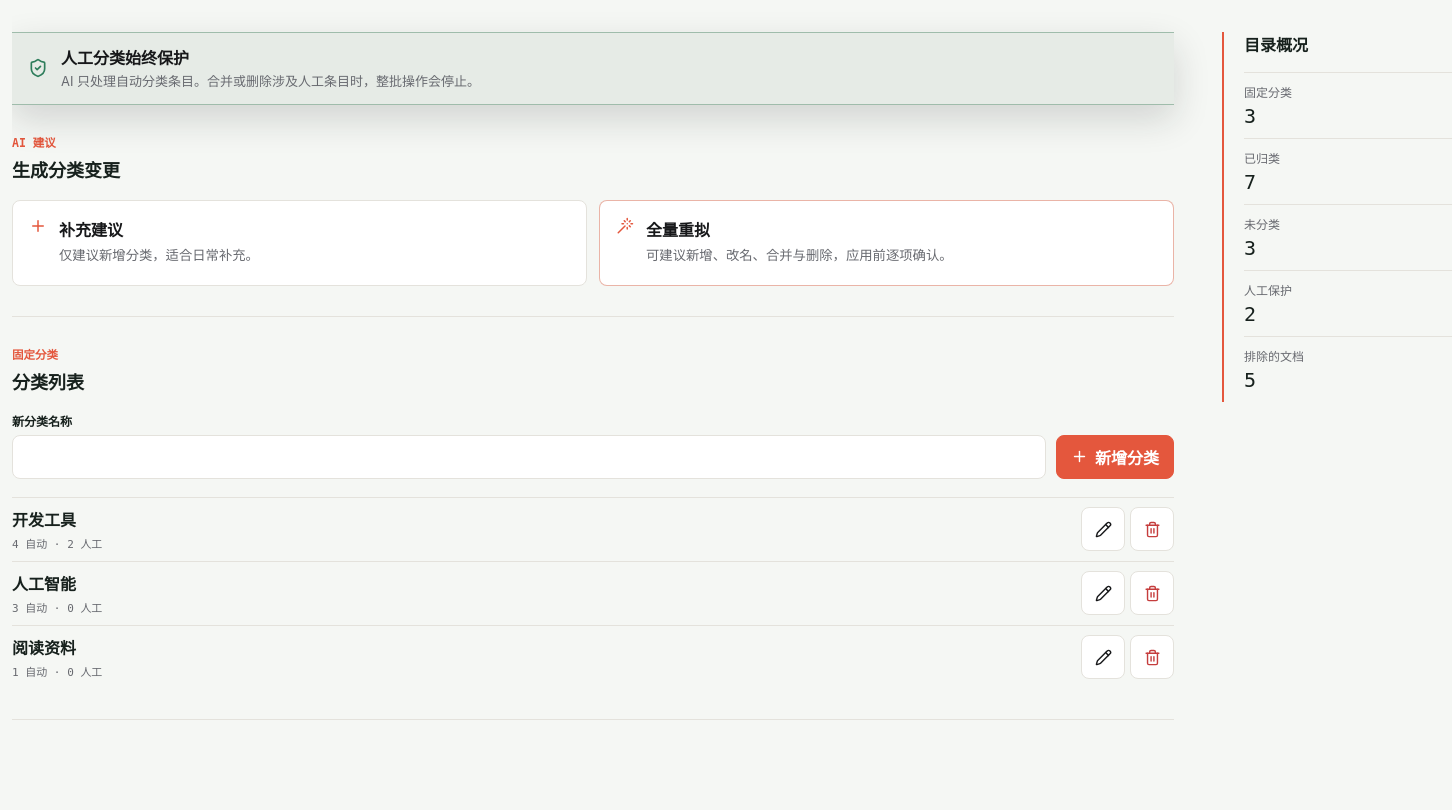
Scenario: CategoryWorkbench › keeps the manual protection visible and disables apply when every diff is ignored
The width and height of the screenshot is (1452, 810).
Click the button "全量重拟 可建议新增、改名、合并与删除，应用前逐项确认。" at (678,230), box top-left (599, 200), bottom-right (1174, 286)
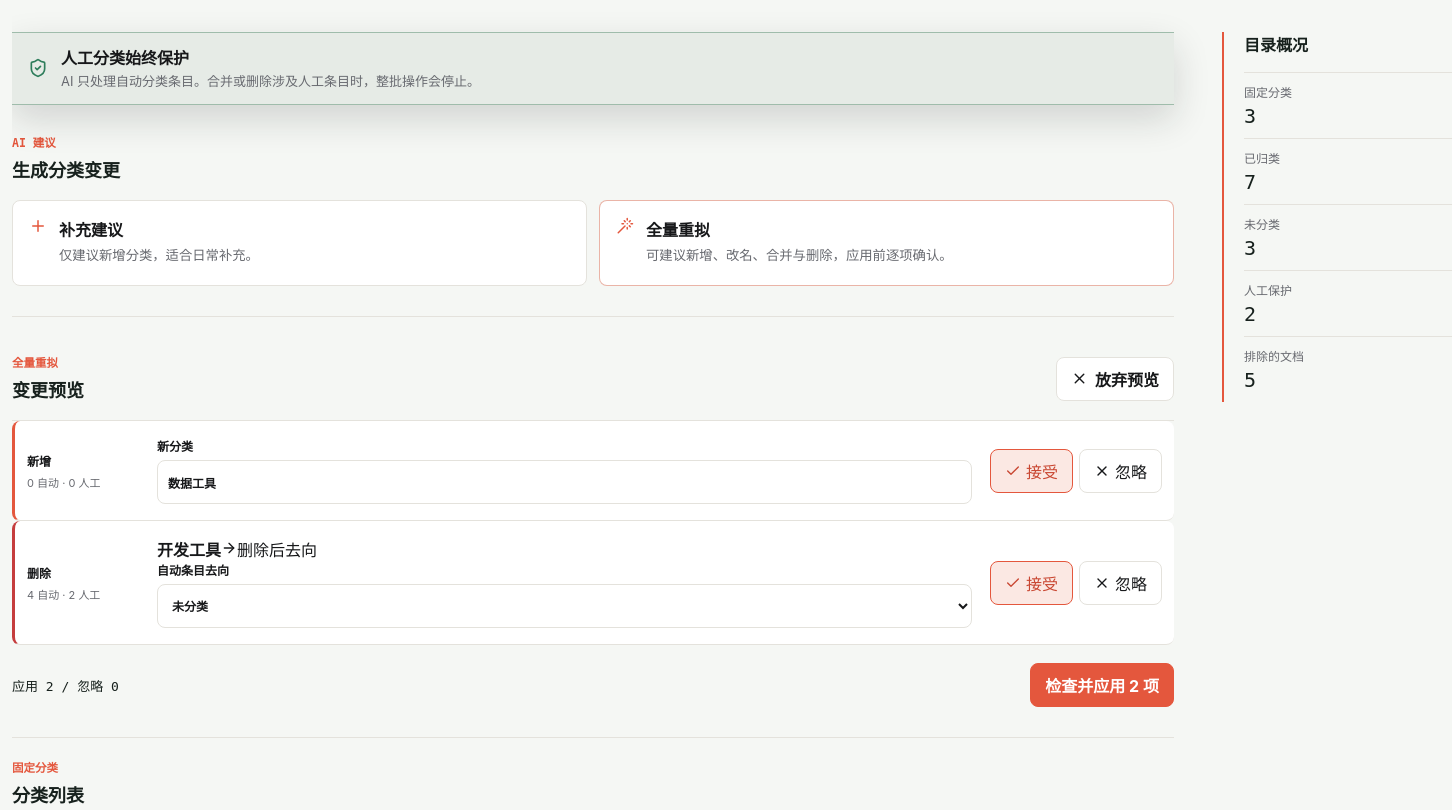
Expected: the element showing "人工分类始终保护 AI 只处理自动分类条目。合并或删除涉及人工条目时，整批操作会停止。" is shown, top-left (12, 32), bottom-right (1174, 104)
Expected: the heading "变更预览" is shown, top-left (12, 376), bottom-right (84, 402)
Click the 1st button "忽略" at (1120,470), box top-left (1079, 448), bottom-right (1162, 492)
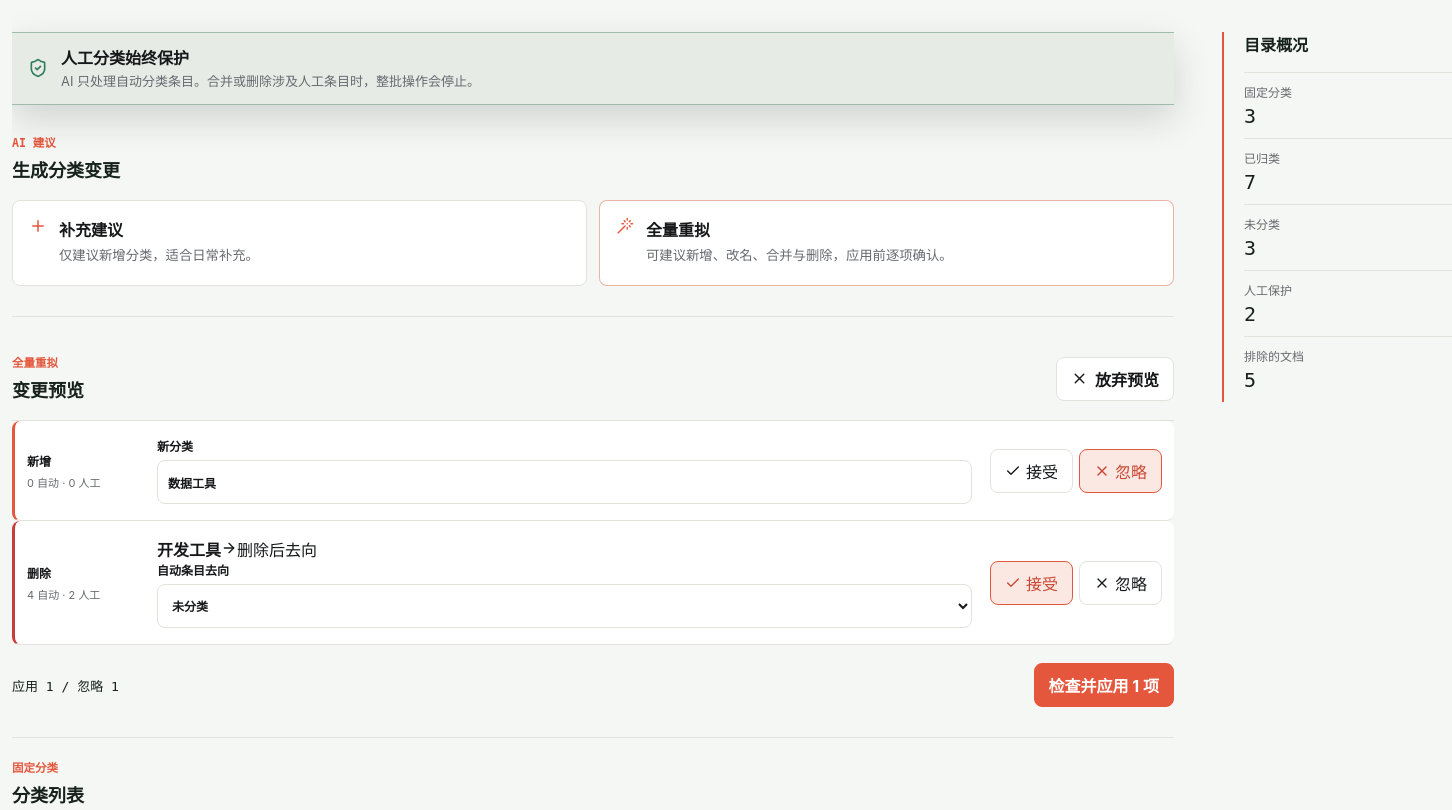
Click the button "忽略" in the row of "自动条目去向" at (1120,582), box top-left (1079, 560), bottom-right (1162, 604)
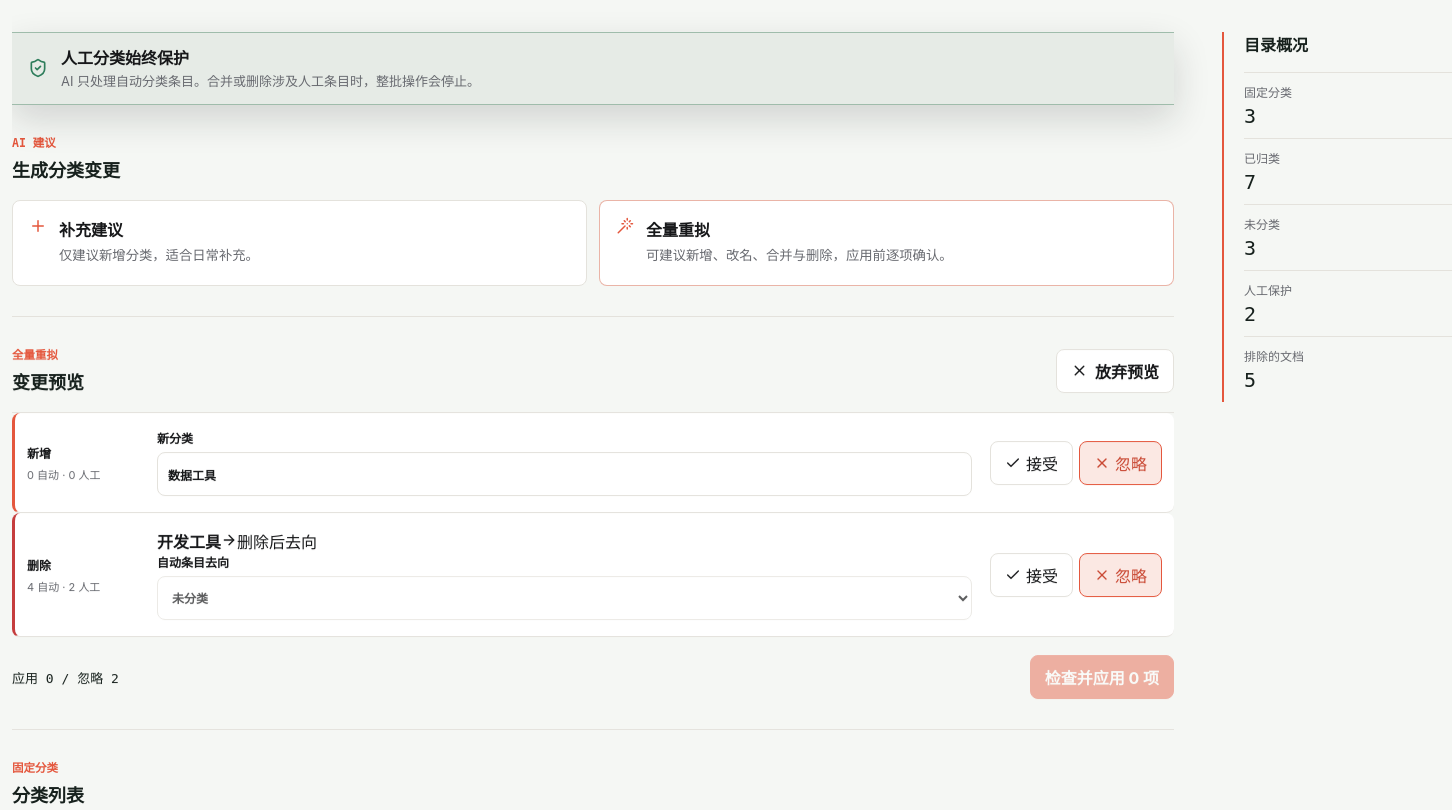
Expected: the field labelled "新分类" is disabled, top-left (157, 452), bottom-right (972, 496)
Expected: the button "检查并应用 0 项" is disabled, top-left (1030, 655), bottom-right (1174, 699)
Expected: the dropdown labelled "自动条目去向" is disabled, top-left (157, 576), bottom-right (972, 620)
